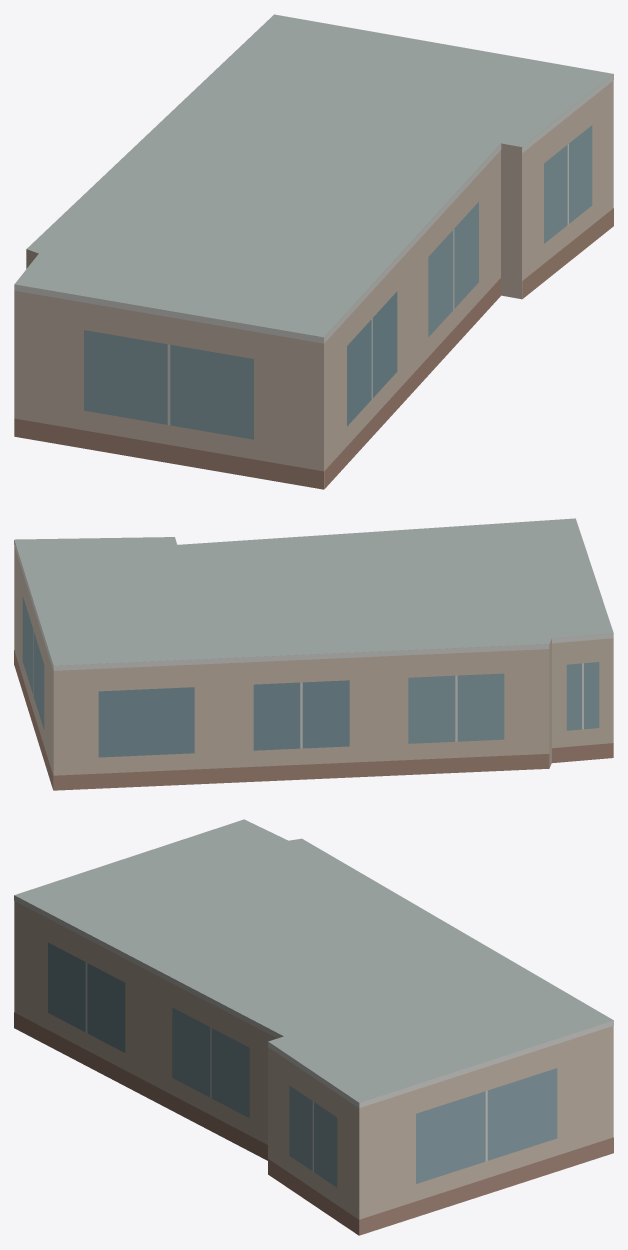
File: survey-upis-32990853.glb
3 renders of one model, top to bottom at view 1: azimuth 30°, elevation 25°; view 2: azimuth 150°, elevation 25°; view 3: azimuth 270°, elevation 25°, orthographic. The views are drawn at different scales.
Visible parts, largest first — view 1: survey-upis-32990853.tmp; view 2: survey-upis-32990853.tmp; view 3: survey-upis-32990853.tmp.
Boxes of the visible parts, bbox=[...] form: survey-upis-32990853.tmp: bbox=[14, 14, 613, 489]; survey-upis-32990853.tmp: bbox=[14, 518, 613, 790]; survey-upis-32990853.tmp: bbox=[14, 819, 613, 1235].
Bounding box in the file's own units: 13.96 × 3.05 × 12.48.
